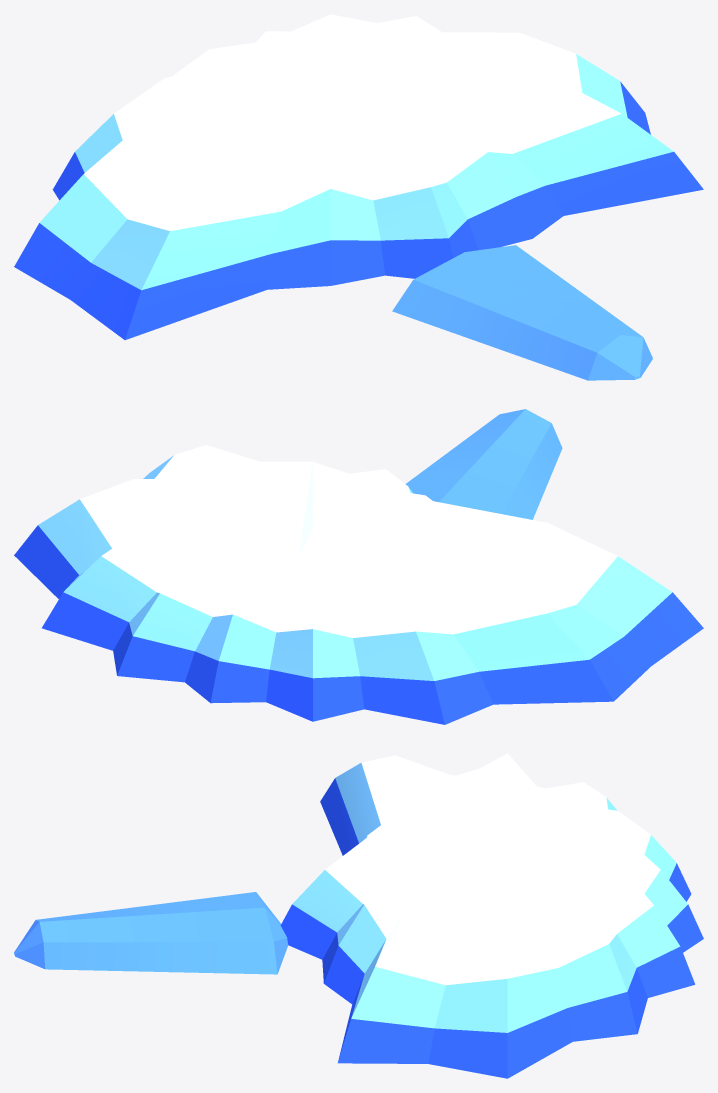
Rendered from shot_ice_134.glb.
The picture shows the model from 3 angles, top to bottom: view 1: azimuth 30°, elevation 25°; view 2: azimuth 150°, elevation 25°; view 3: azimuth 270°, elevation 25°; orthographic projection. The views are drawn at different scales.
Parts seen in each view (by area): view 1: shot_ice_134_cap, shot_ice_134_trail; view 2: shot_ice_134_cap, shot_ice_134_trail; view 3: shot_ice_134_cap, shot_ice_134_trail.
Boxes of the visible parts, left/top/right/bottom form: shot_ice_134_cap: left=14, top=14, right=703, bottom=339; shot_ice_134_trail: left=392, top=245, right=652, bottom=380; shot_ice_134_cap: left=14, top=445, right=703, bottom=724; shot_ice_134_trail: left=405, top=409, right=562, bottom=519; shot_ice_134_cap: left=280, top=753, right=703, bottom=1078; shot_ice_134_trail: left=14, top=892, right=288, bottom=974.
Bounding box in the file's own units: 11.79 × 3.13 × 12.24.
